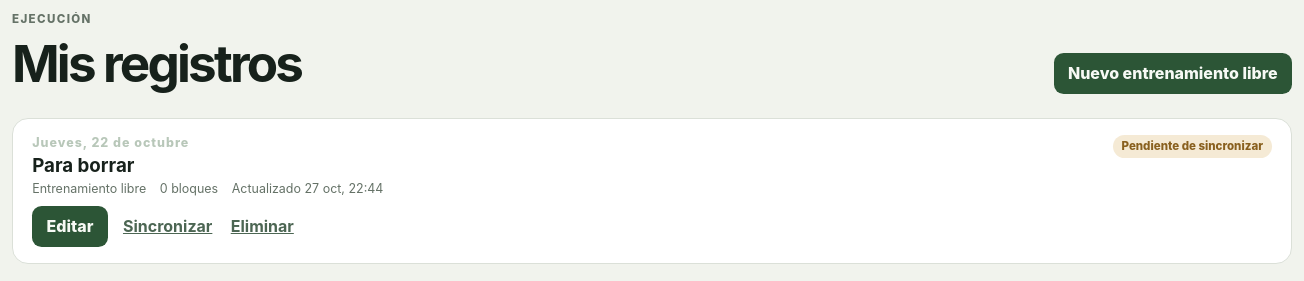
it: ExecutionRecordsScreen › deletes a draft after confirmation
The width and height of the screenshot is (1304, 281).
Expected: the heading "Para borrar" is shown, [32,154,134,177]
Click the button "Eliminar" at x=262, y=226, box [228,211,297,242]
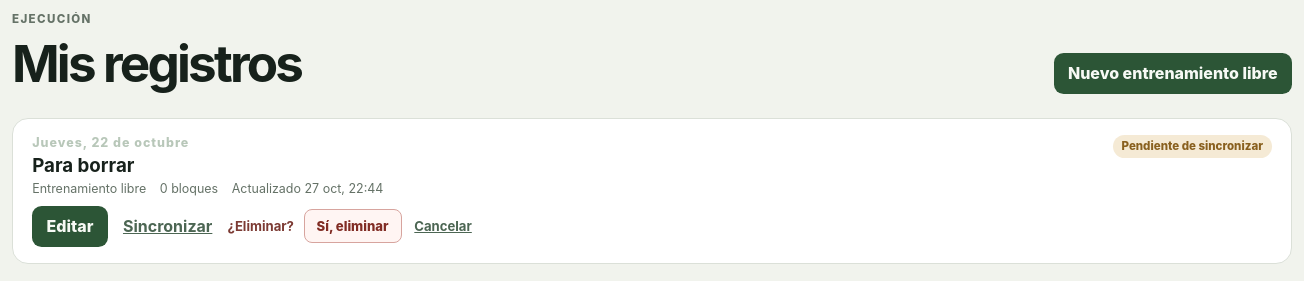
Click the button "Sí, eliminar" at x=352, y=226, box [304,209,402,243]
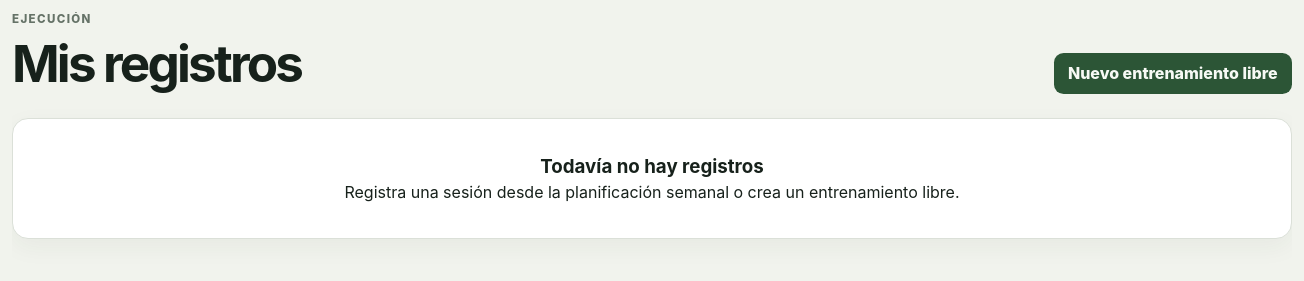
Now the heading "Todavía no hay registros" is shown, box [540,155,764,178]
